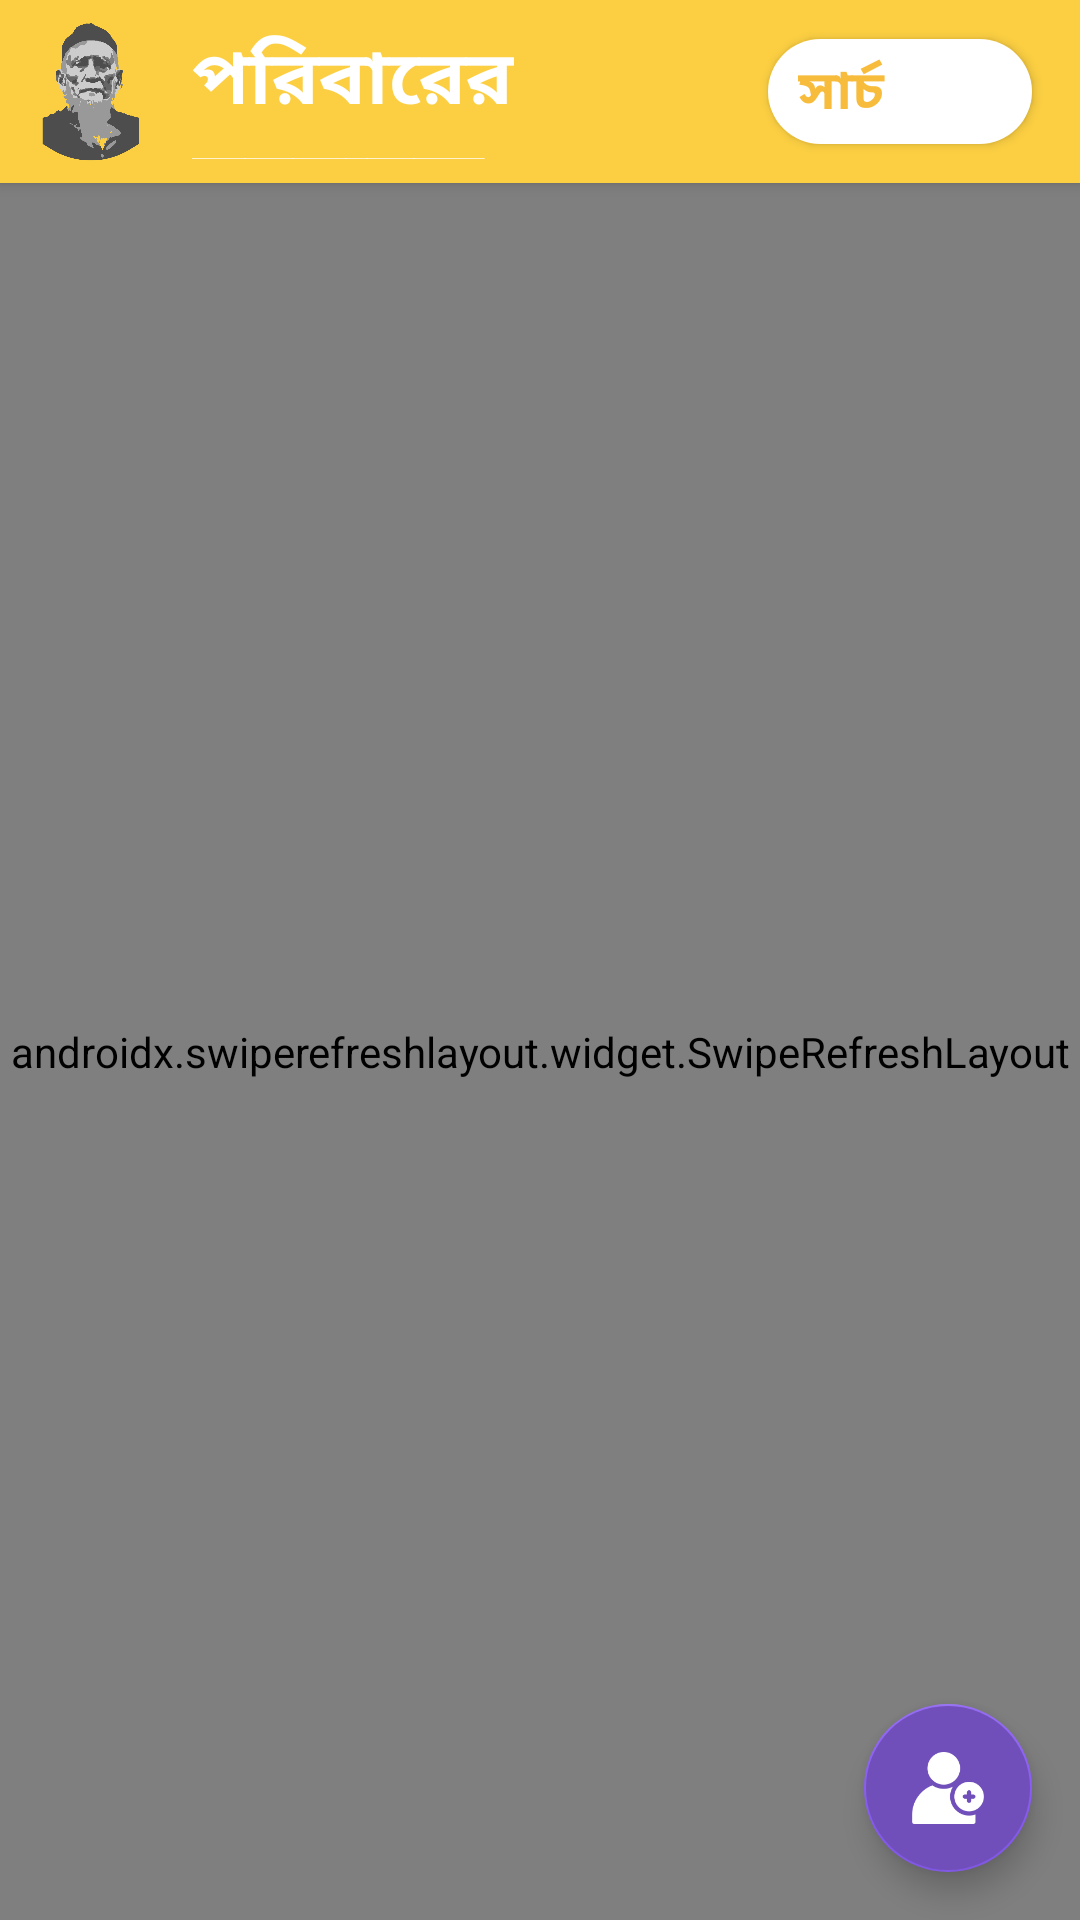

Screen size 1080x1920. Icon name, then its center in pixels as [x,y]:
add user: [948,1788]
